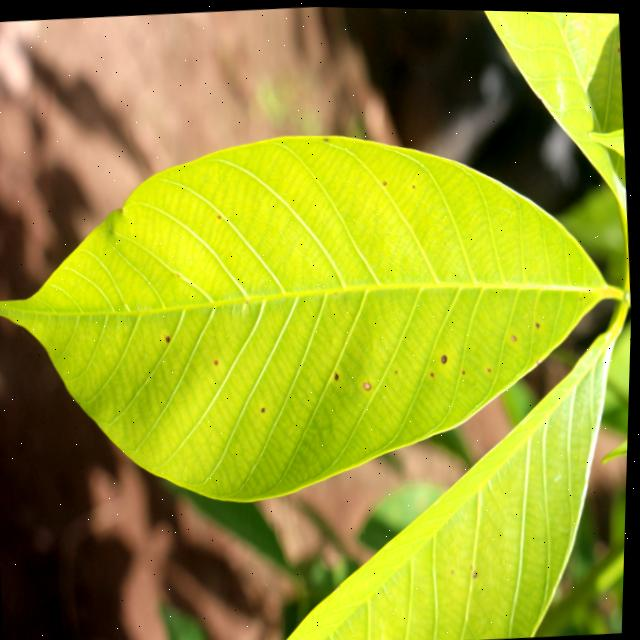Colletotrichum: (365, 379, 374, 390), (442, 351, 450, 361)
